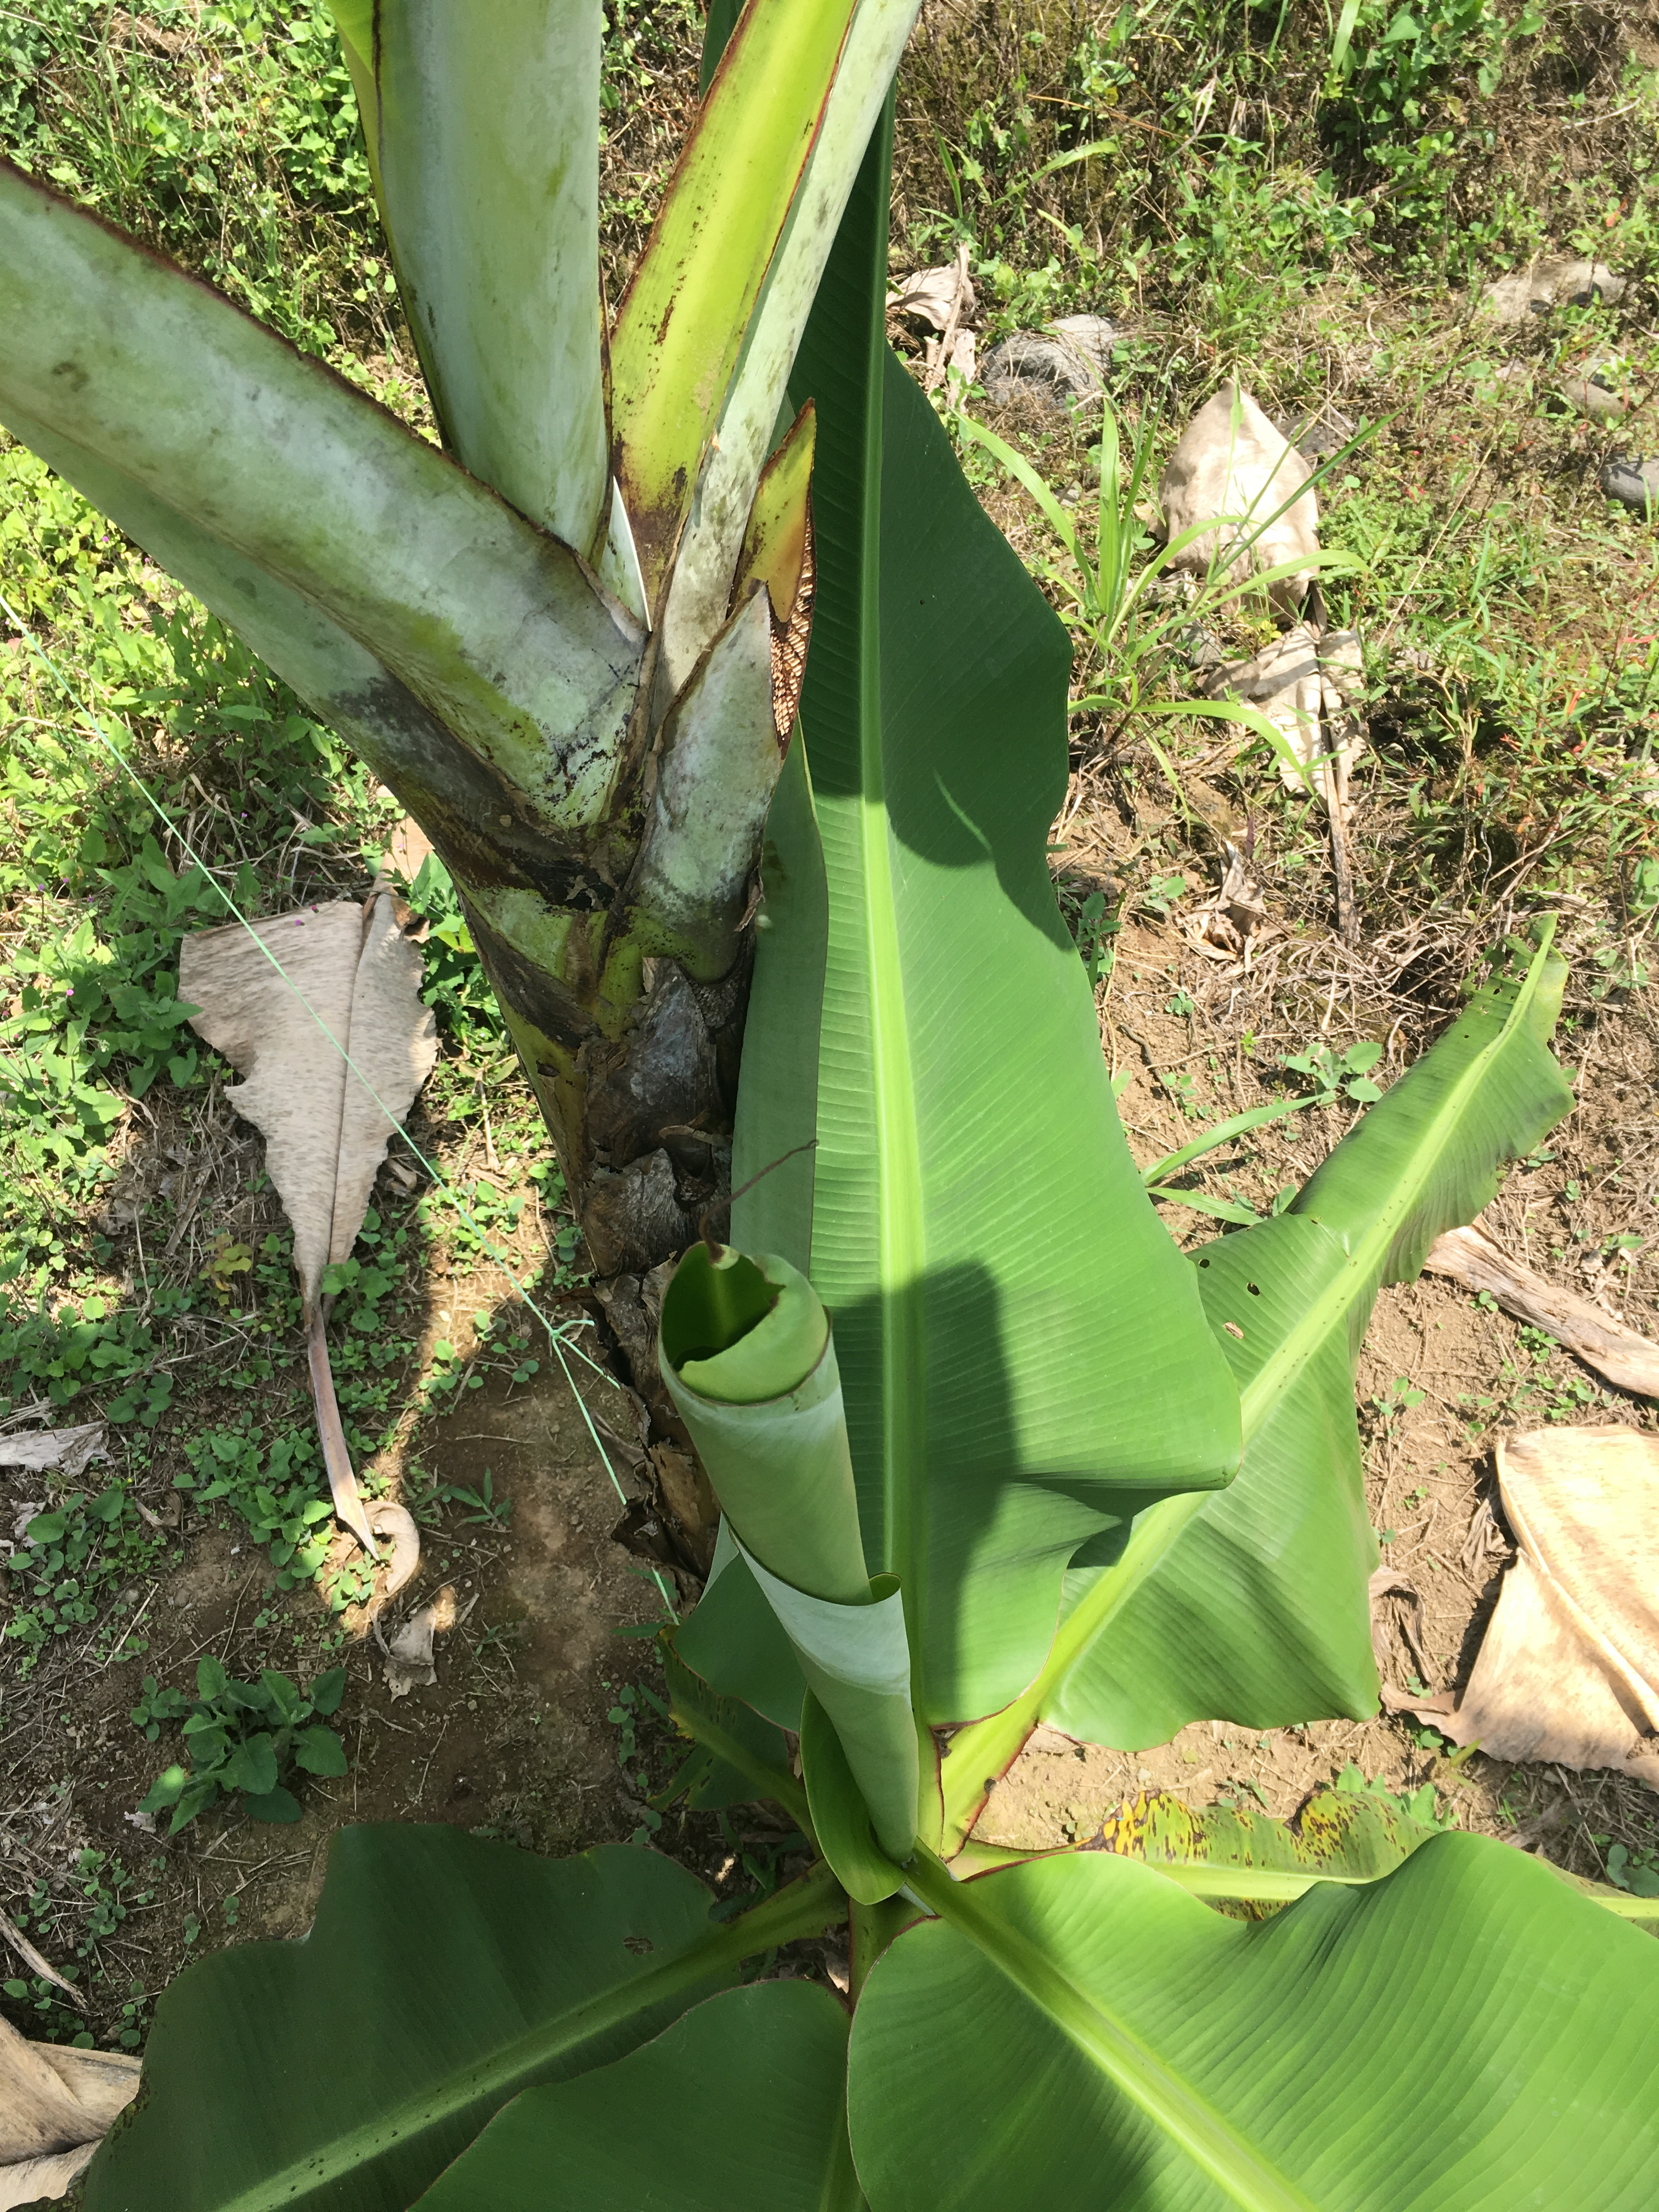candleleafs: (660, 1144, 924, 1912)
